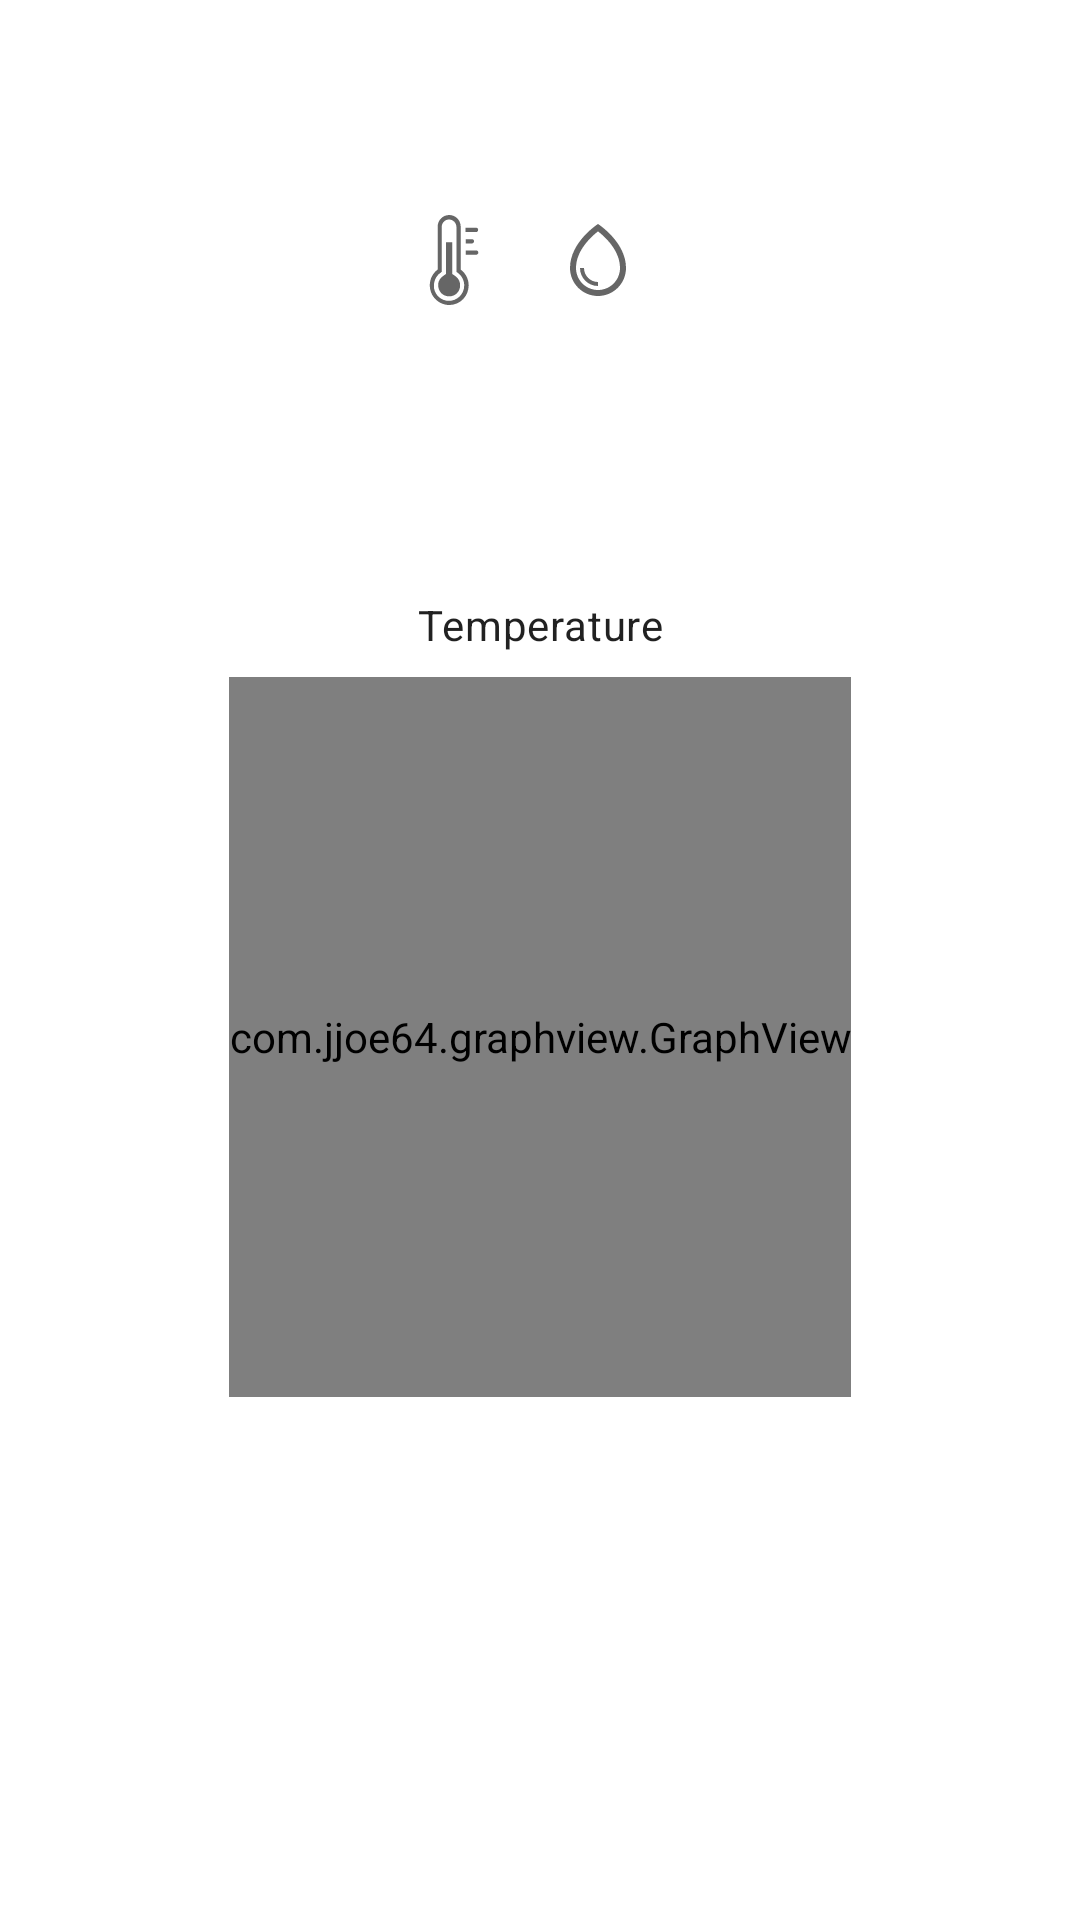

Icon bounding boxes for this 1080w x 1920h phone screenshot, format detection(x1, y1, x2, y2):
humidity: detection(570, 224, 626, 296)
temperature: detection(429, 215, 479, 305)
